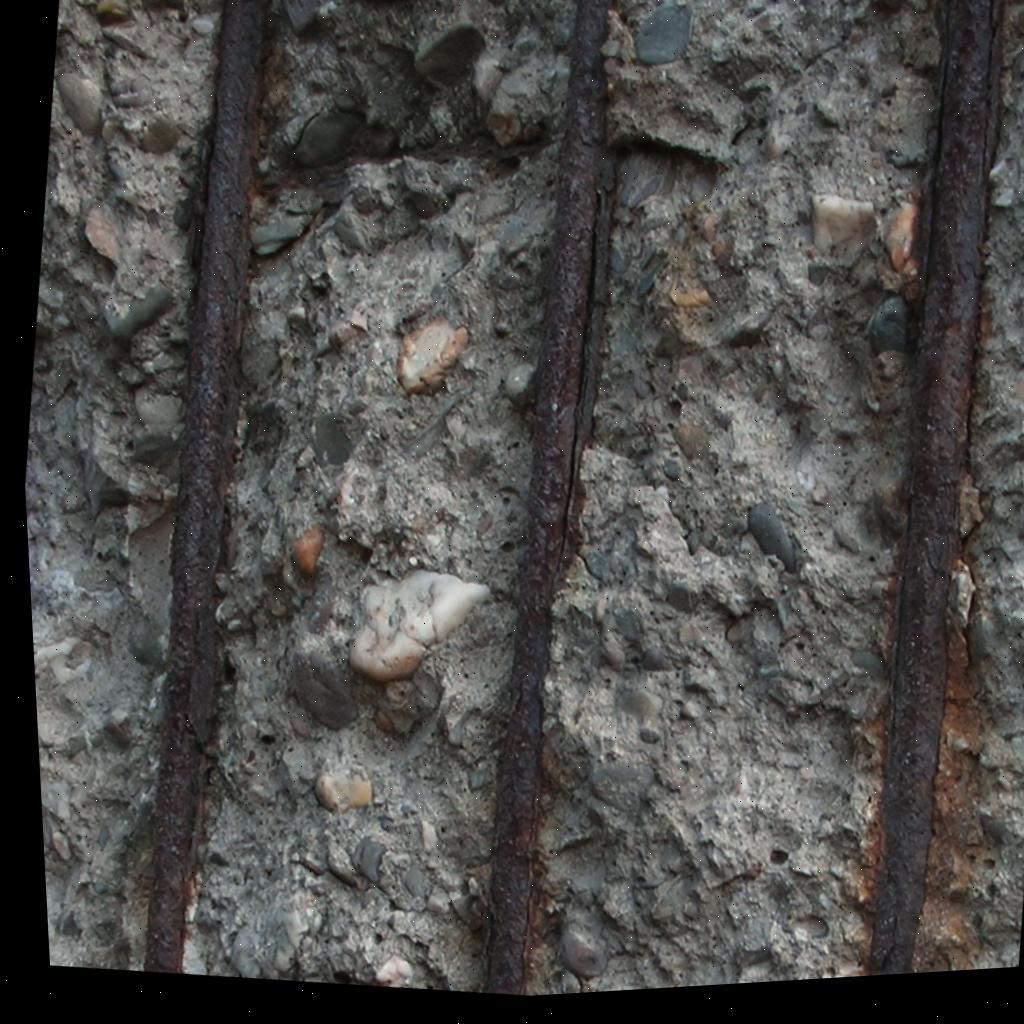exposed_rebar: (485, 0, 612, 995), (869, 0, 998, 976), (145, 0, 263, 972)
spalling: (25, 0, 1024, 996)
